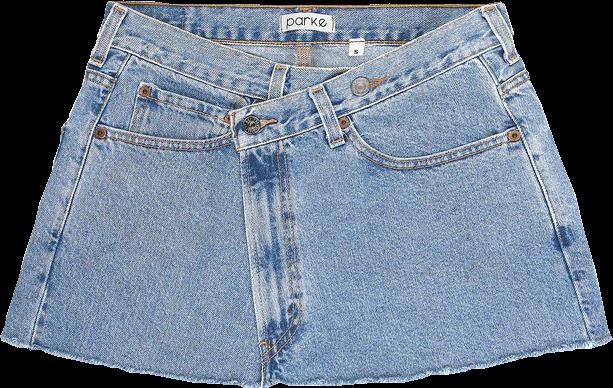Hemline: (283, 334, 612, 387), (0, 336, 272, 387)
Pantleg: (279, 2, 611, 385), (0, 0, 278, 387)
Waistline: (110, 0, 497, 73)
